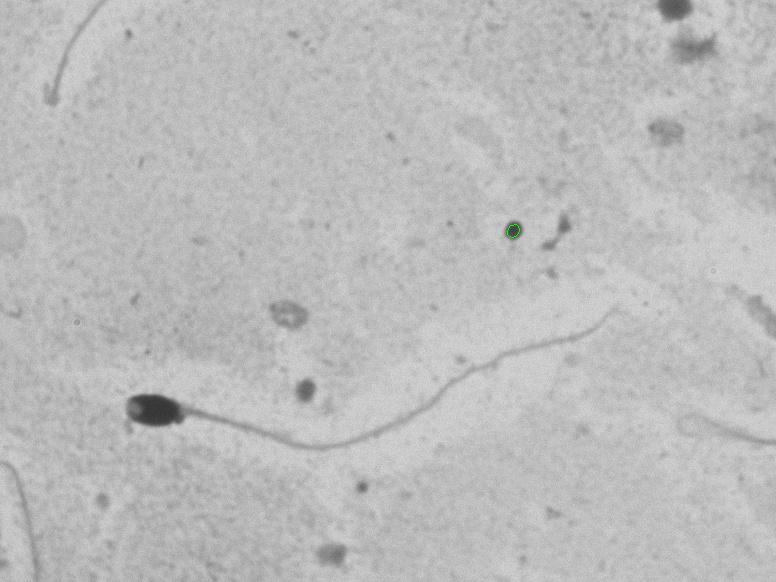Abnormal: (93, 284, 640, 498)
